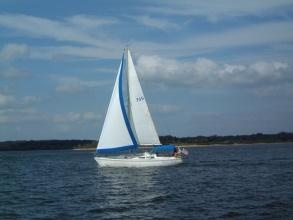fanchuan: (93, 50, 188, 168)
